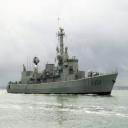Fragata: (8, 26, 120, 98)
